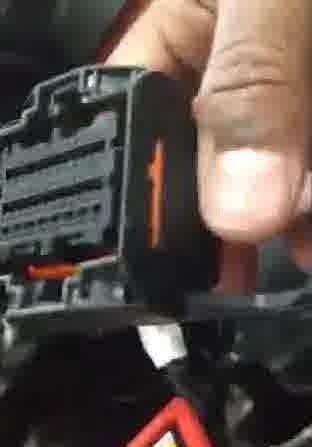connector: (1, 64, 194, 331)
